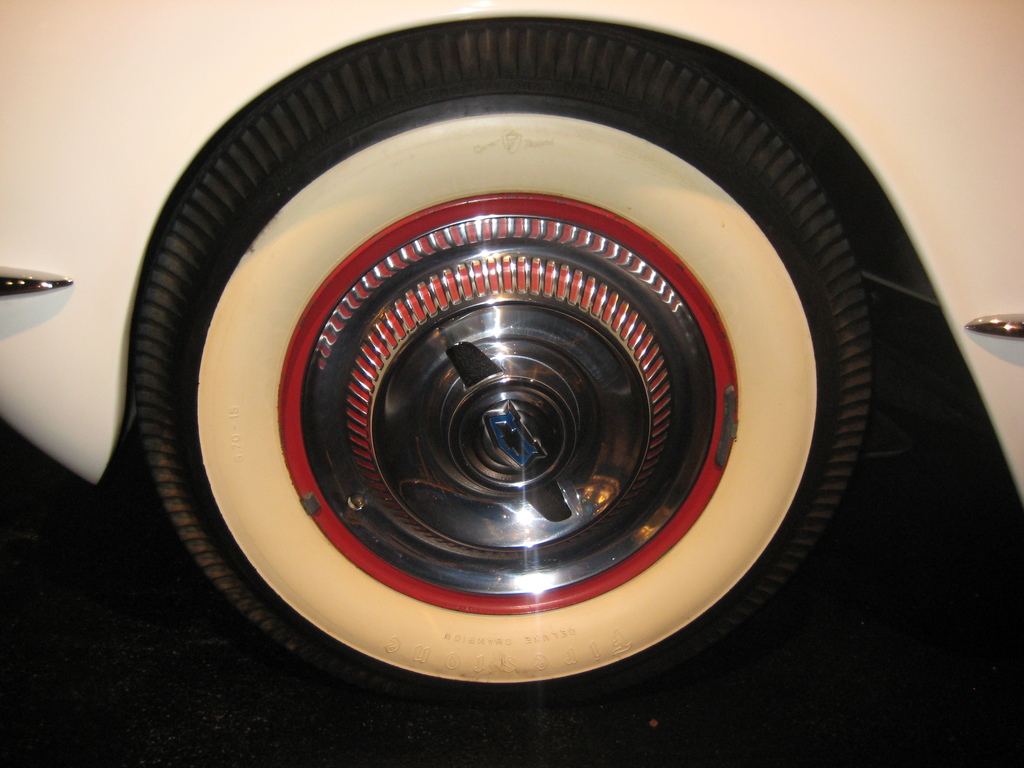Car: (0, 0, 1023, 702)
